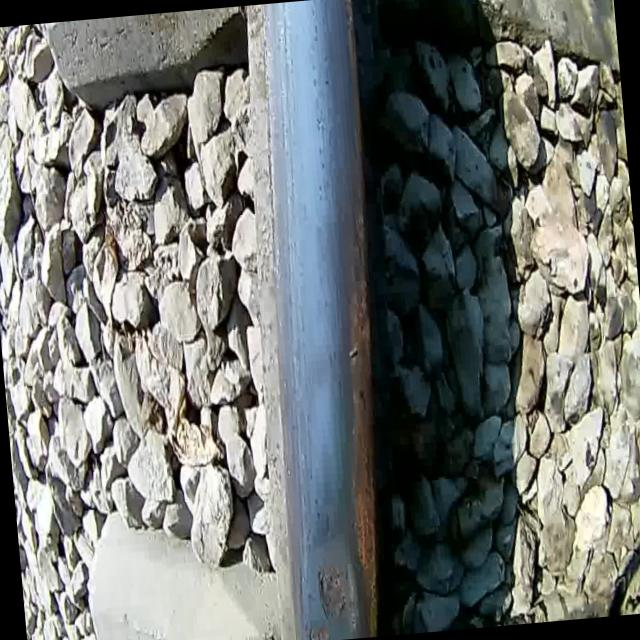Spallings: (312, 560, 352, 624), (300, 618, 331, 640)
Squats: (289, 502, 365, 640)
